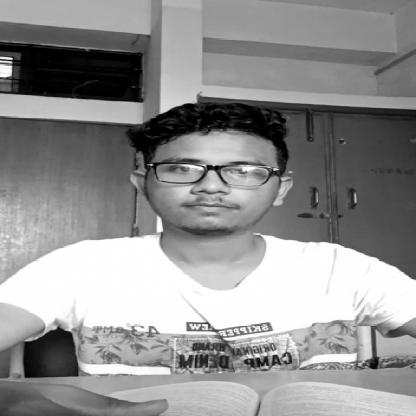Normal: (120, 107, 311, 246)
